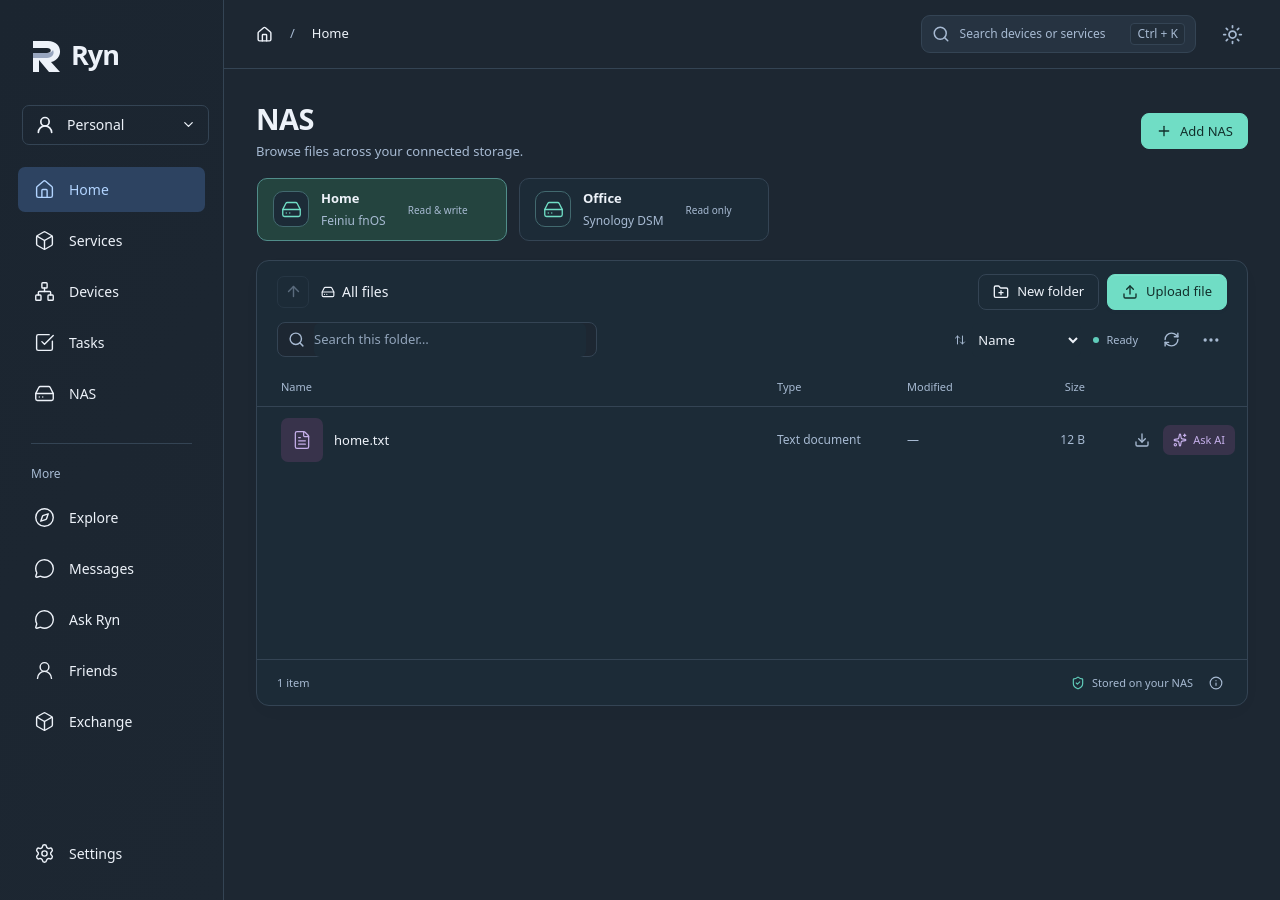
Test: switches independent NAS systems and respects read and AI capabilities
Expected: the cell "home.txt" is shown, [257,406,765,474]
Expected: the button "Upload file" is shown, [1107,274,1227,310]
Click the button "Office Synology DSM Read only" at (644, 209), box [519,178,769,241]
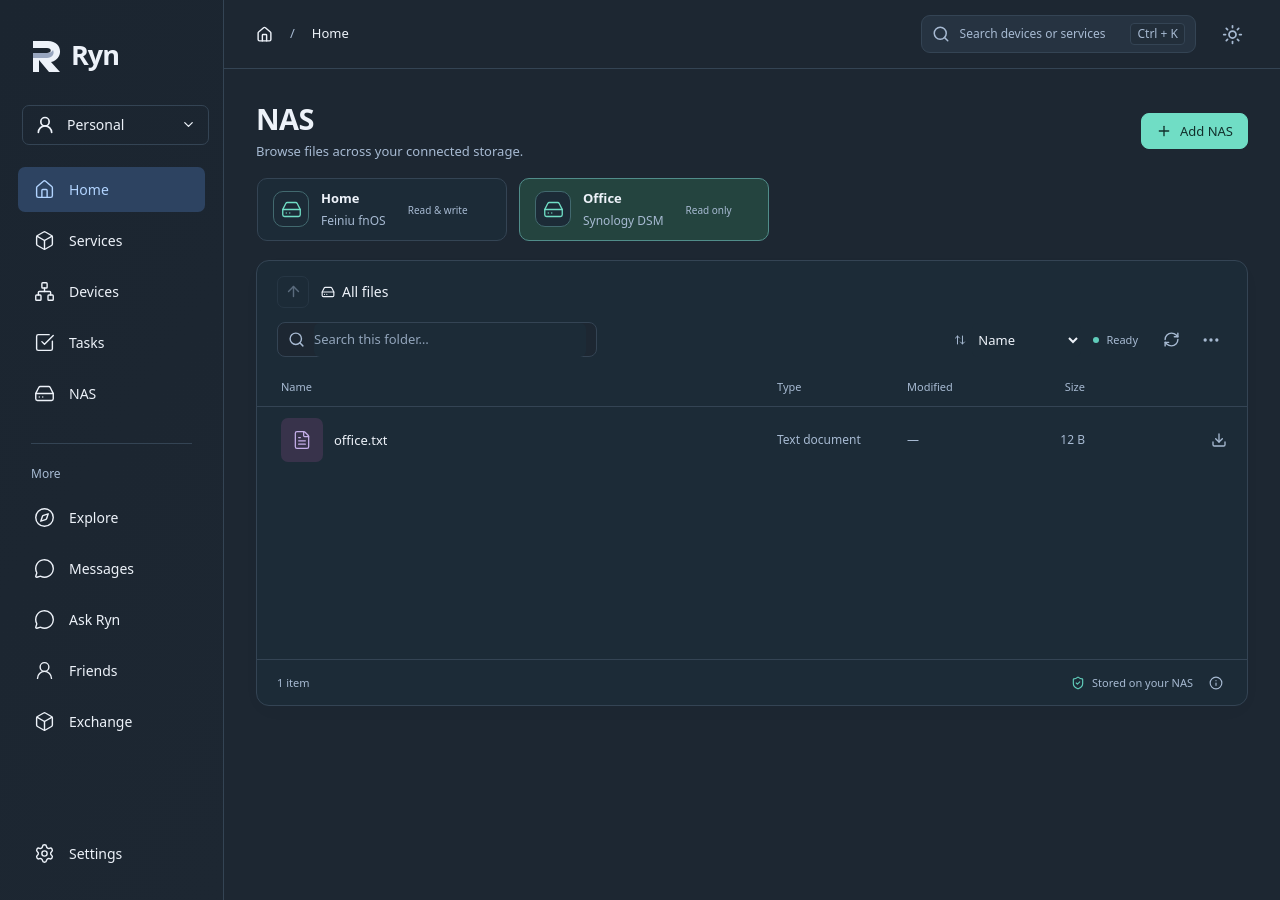
Expected: the cell "office.txt" is shown, [257,406,765,474]
Expected: the button "home.txt" is gone
Expected: the button "Upload file" is gone
